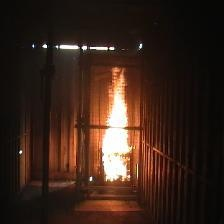fire: (100, 67, 135, 183)
